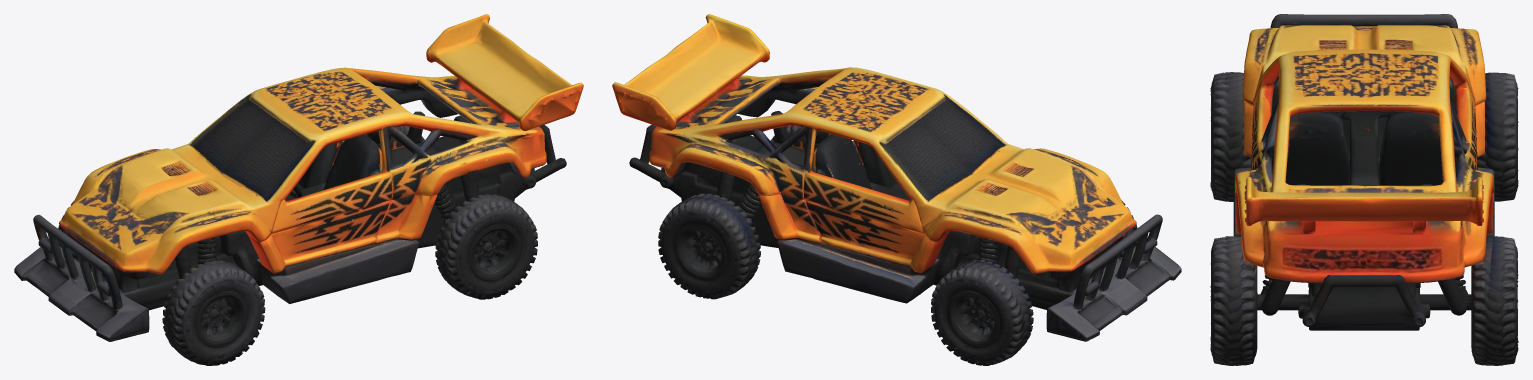
File: orange-off-road.glb
3 renders of one model, left to right at view 1: azimuth 30°, elevation 25°; view 2: azimuth 150°, elevation 25°; view 3: azimuth 270°, elevation 25°, orthographic. The views are drawn at different scales.
Visible parts, largest first — view 1: tripo_part_1, tripo_part_8, tripo_part_7, tripo_part_3, tripo_part_0, tripo_part_21, tripo_part_19, tripo_part_5, tripo_part_14, tripo_part_13, tripo_part_22, tripo_part_9; view 2: tripo_part_1, tripo_part_8, tripo_part_4, tripo_part_2, tripo_part_0, tripo_part_21, tripo_part_17, tripo_part_5, tripo_part_13, tripo_part_14, tripo_part_10; view 3: tripo_part_1, tripo_part_8, tripo_part_4, tripo_part_3, tripo_part_13, tripo_part_14, tripo_part_2, tripo_part_7, tripo_part_0, tripo_part_17, tripo_part_19, tripo_part_6 (+2 smaller).
Boxes of the visible parts, x1,y1,x2,y2 form: tripo_part_1: (59, 14, 583, 303); tripo_part_8: (172, 67, 530, 230); tripo_part_7: (162, 260, 265, 365); tripo_part_3: (435, 194, 537, 299); tripo_part_0: (14, 214, 149, 341); tripo_part_21: (193, 97, 309, 198); tripo_part_19: (399, 143, 531, 240); tripo_part_5: (73, 236, 238, 310); tripo_part_14: (324, 135, 382, 189); tripo_part_13: (293, 143, 337, 189); tripo_part_22: (403, 86, 457, 117); tripo_part_9: (427, 152, 457, 221); tripo_part_1: (612, 14, 1136, 309); tripo_part_8: (663, 67, 1023, 226); tripo_part_4: (658, 193, 760, 299); tripo_part_2: (931, 260, 1033, 365); tripo_part_0: (1046, 214, 1181, 341); tripo_part_21: (885, 97, 1002, 198); tripo_part_17: (664, 143, 796, 240); tripo_part_5: (958, 236, 1123, 304); tripo_part_13: (813, 134, 871, 189); tripo_part_14: (858, 142, 904, 191); tripo_part_10: (739, 152, 769, 220); tripo_part_1: (1233, 25, 1494, 330); tripo_part_8: (1253, 49, 1474, 227); tripo_part_4: (1463, 236, 1518, 365); tripo_part_3: (1210, 236, 1264, 365); tripo_part_13: (1379, 111, 1456, 185); tripo_part_14: (1271, 112, 1349, 185); tripo_part_2: (1477, 72, 1518, 201); tripo_part_7: (1210, 72, 1251, 201); tripo_part_0: (1270, 14, 1457, 28); tripo_part_17: (1463, 168, 1493, 266); tripo_part_19: (1235, 168, 1264, 267); tripo_part_6: (1271, 78, 1456, 137).
Bounding box in the file's own units: 1 × 0.36 × 0.4465.
Materials: 27 (27 with a texture image).
